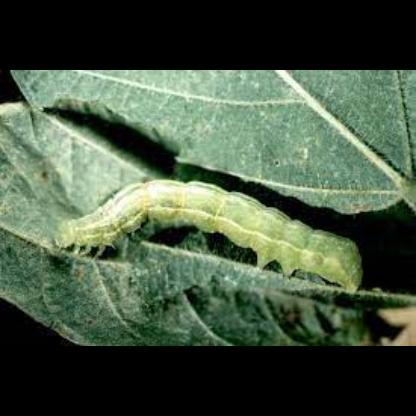oruga: (55, 184, 378, 276)
